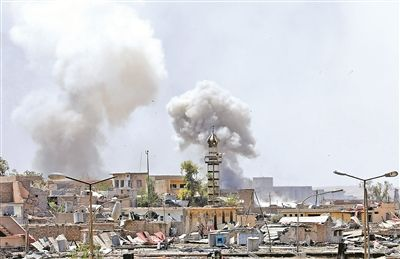smoke: (15, 9, 255, 182)
